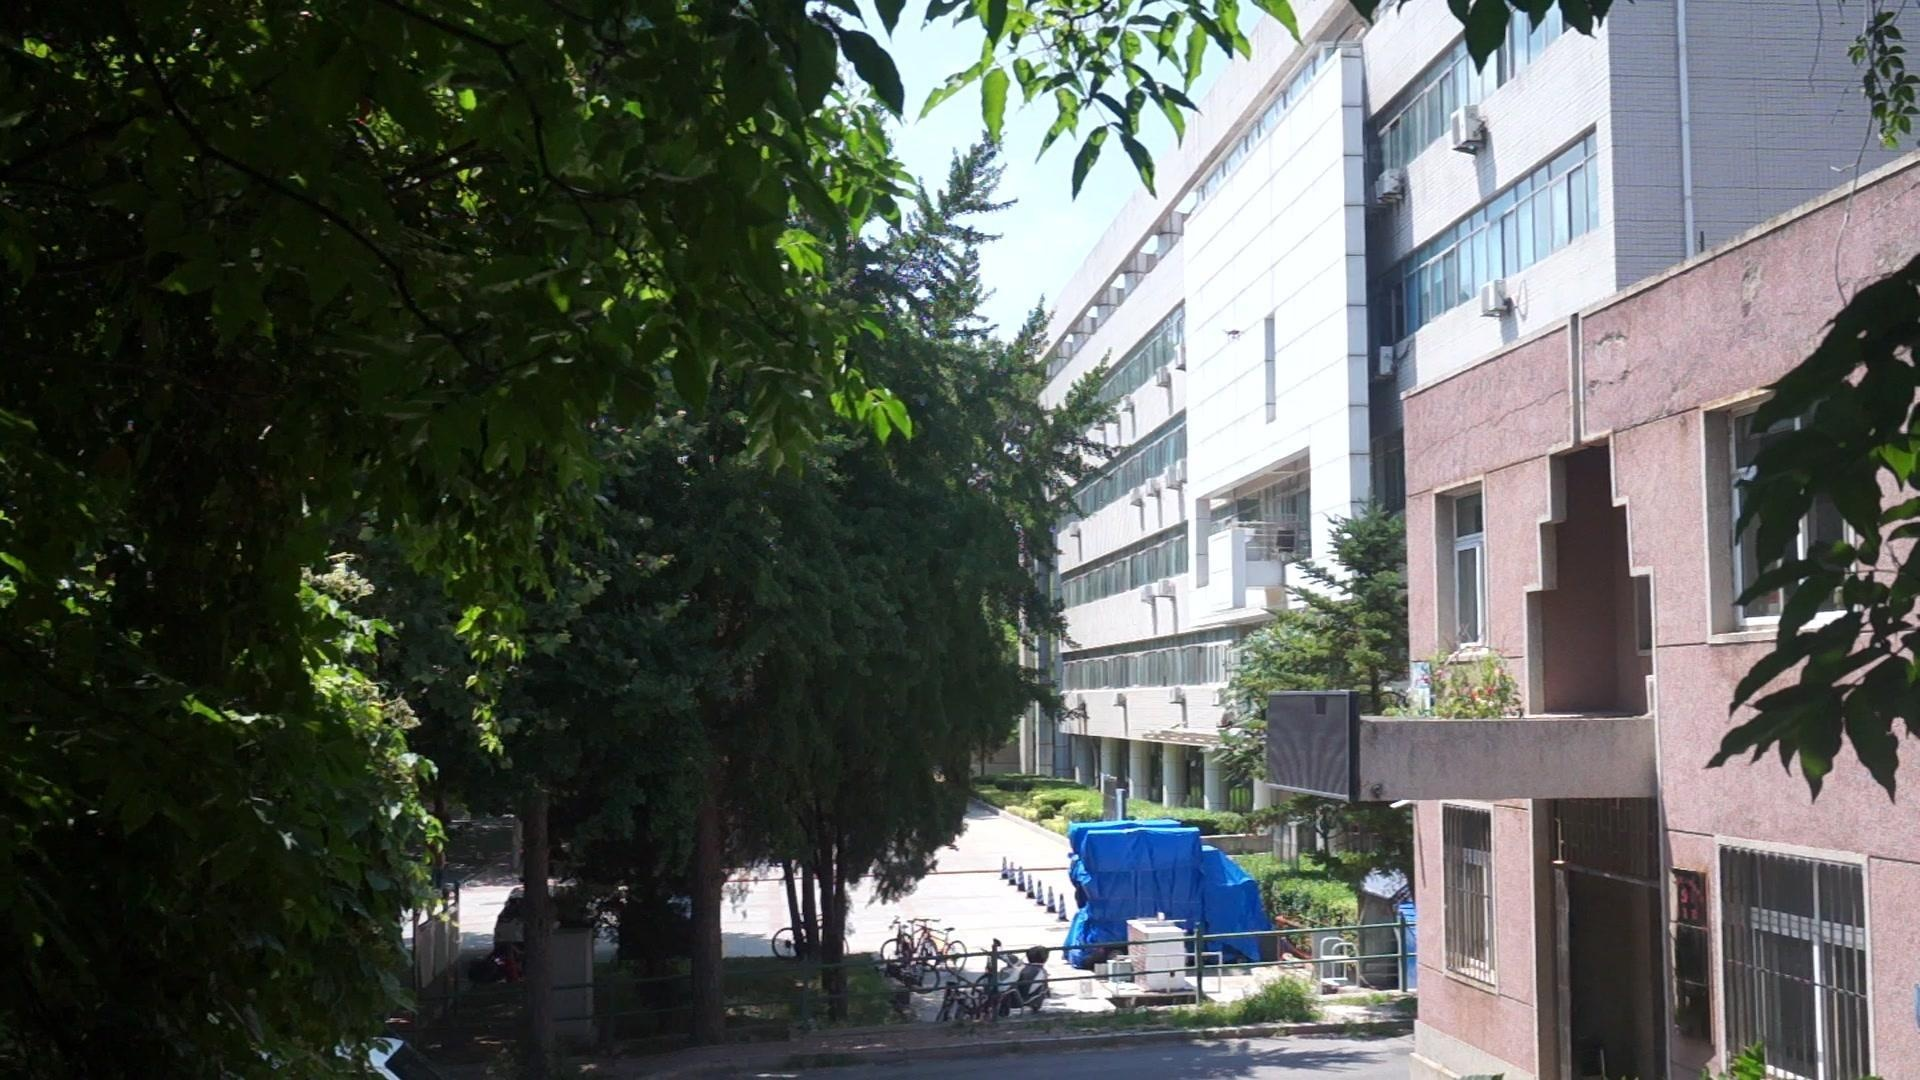UAV: (1222, 330, 1249, 343)
